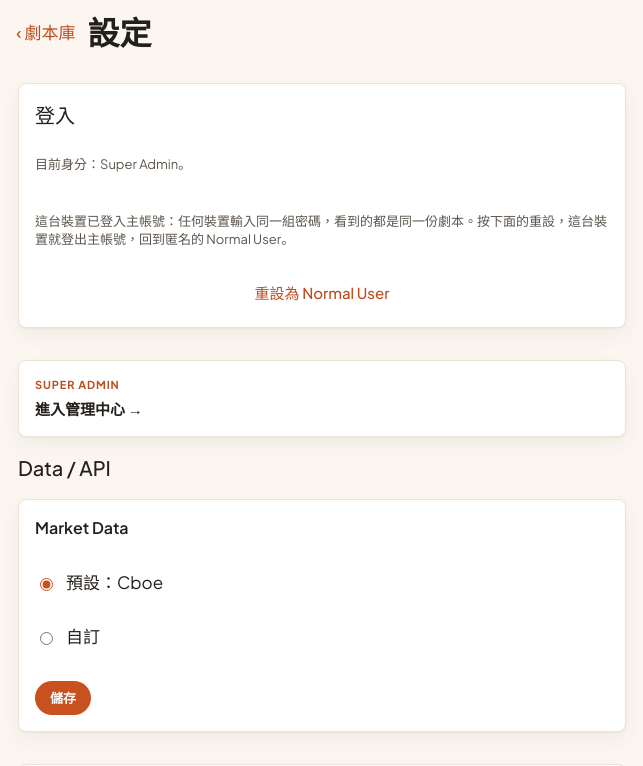
Test: 文案裁示（需求方明示） › 寫「目前支援」，不寫「推薦」
Expected: the element "Market Data" is shown, 18,499 -> 626,732
Expected: the text "目前身分：Super Admin。" is shown, 35,156 -> 191,172
Click the radio button labelled "自訂" at (46, 638), box 40,632 -> 53,645
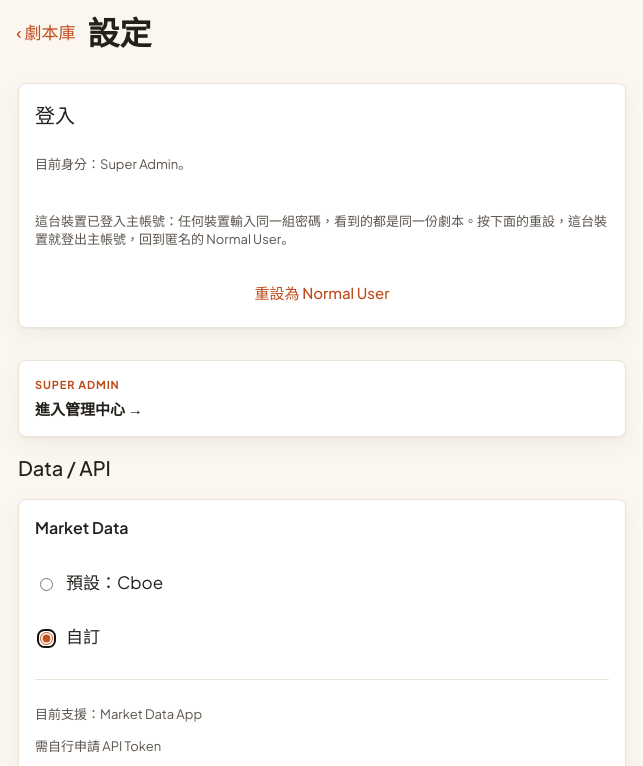
Expected: the text "目前支援：Market Data App" is shown, 35,706 -> 202,722
